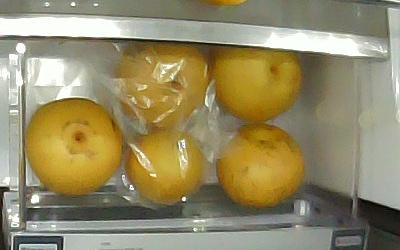pear: (25, 98, 124, 196), (217, 125, 307, 208), (211, 46, 304, 123)
pear_vinyl: (118, 45, 208, 132), (127, 131, 207, 205)
